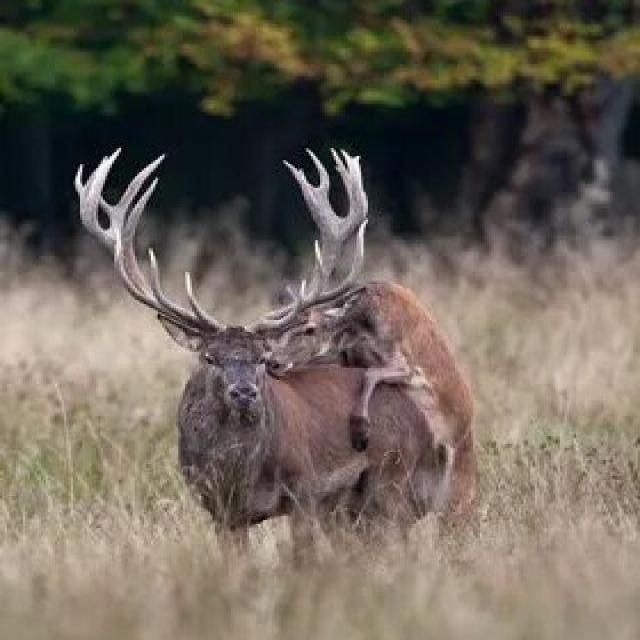deer: (74, 165, 515, 564)
